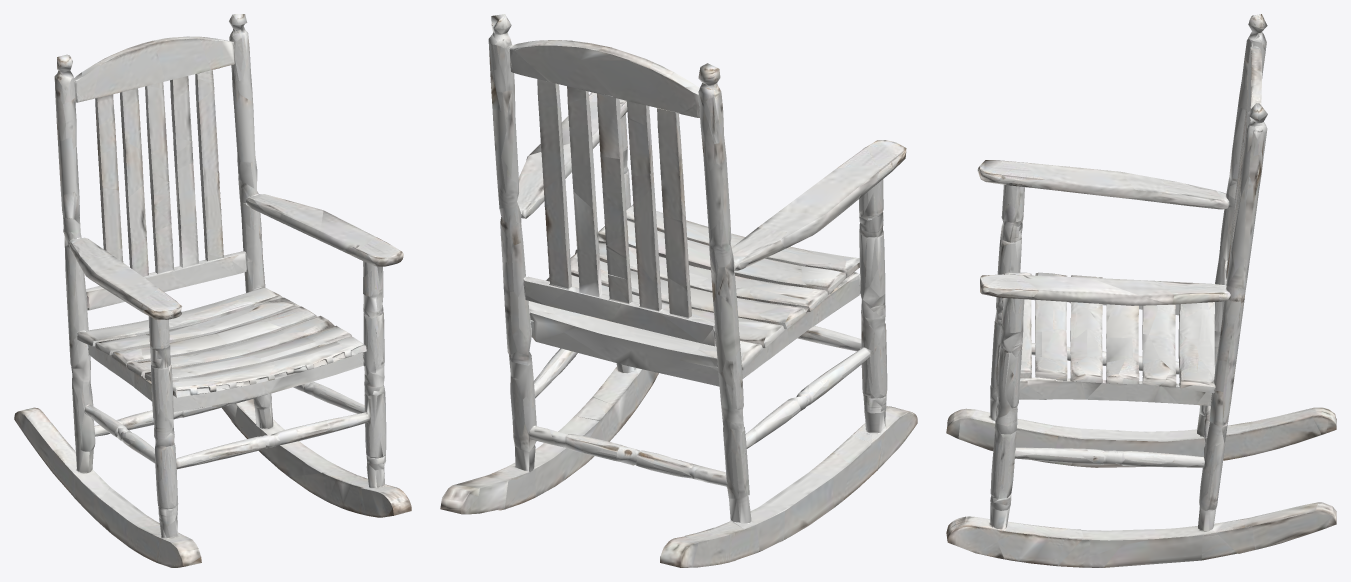
The model's file is rocking-chair.glb.
3 views of the same model, side by side, from view 1: azimuth 30°, elevation 25°; view 2: azimuth 150°, elevation 25°; view 3: azimuth 270°, elevation 25° (orthographic). The views are drawn at different scales.
Bounding box in the file's own units: 1.17 × 1.9 × 1.48.
1 material, 1 textured.
